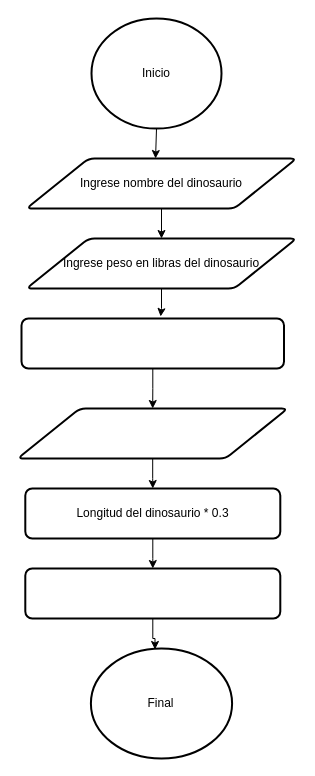
Some shapes in this 315 by 776 pixel diagram are drawn without their labels. Each missing label, with the centre of its shape:
Ingrese longitud en pies del dinosaurio: (x=152, y=433)
Mostrar nombre, peso, longitud del dinosaurio: (x=152, y=593)
Peso del dinosaurio / 2.2: (x=152, y=343)
